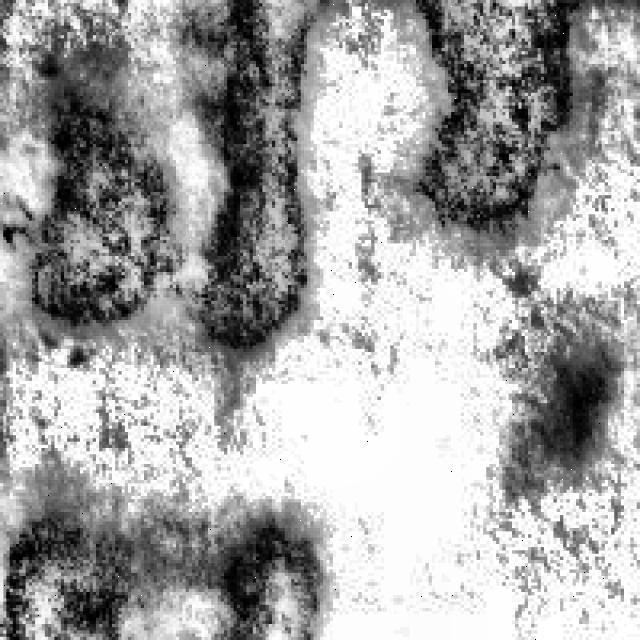Scratches: (189, 0, 336, 349), (19, 64, 182, 330), (410, 0, 582, 250), (3, 474, 157, 636), (220, 499, 340, 637), (541, 326, 621, 474)
